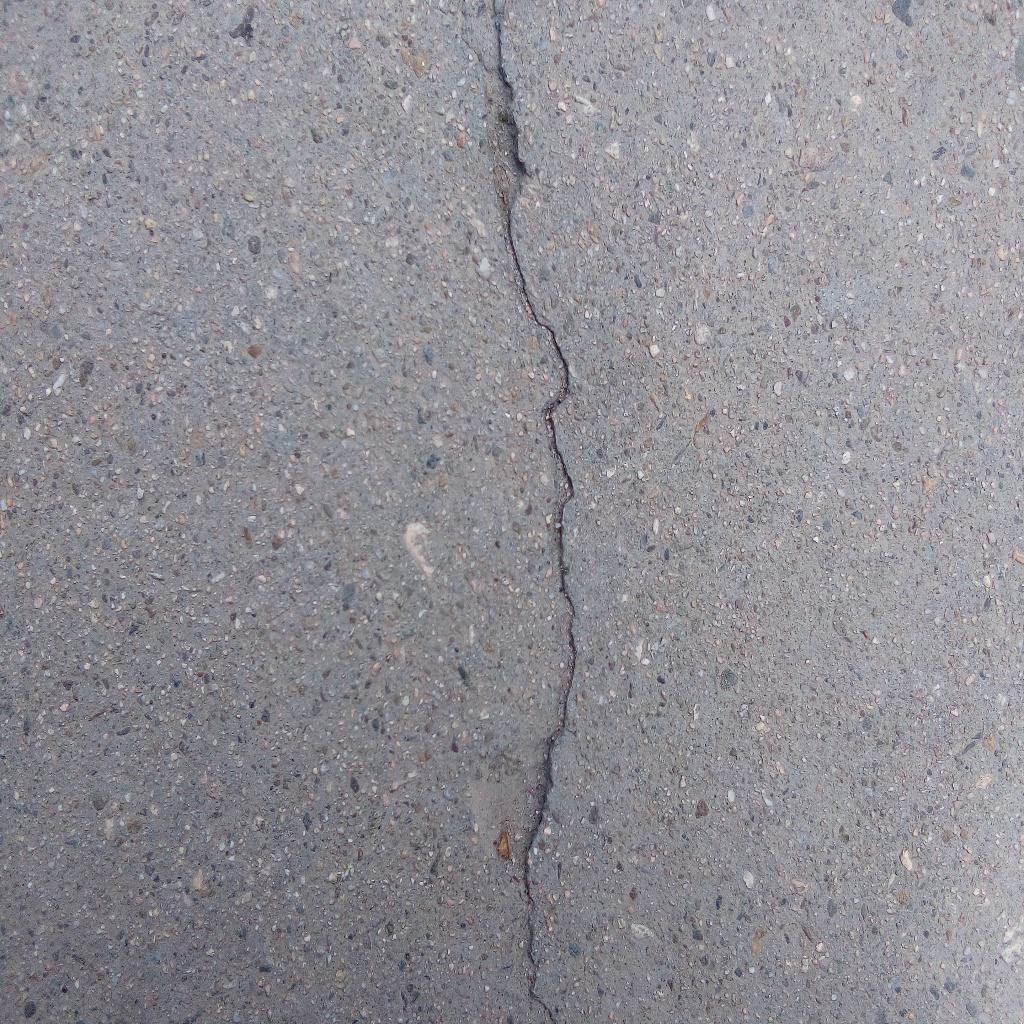Crack: (479, 1, 580, 1024)
